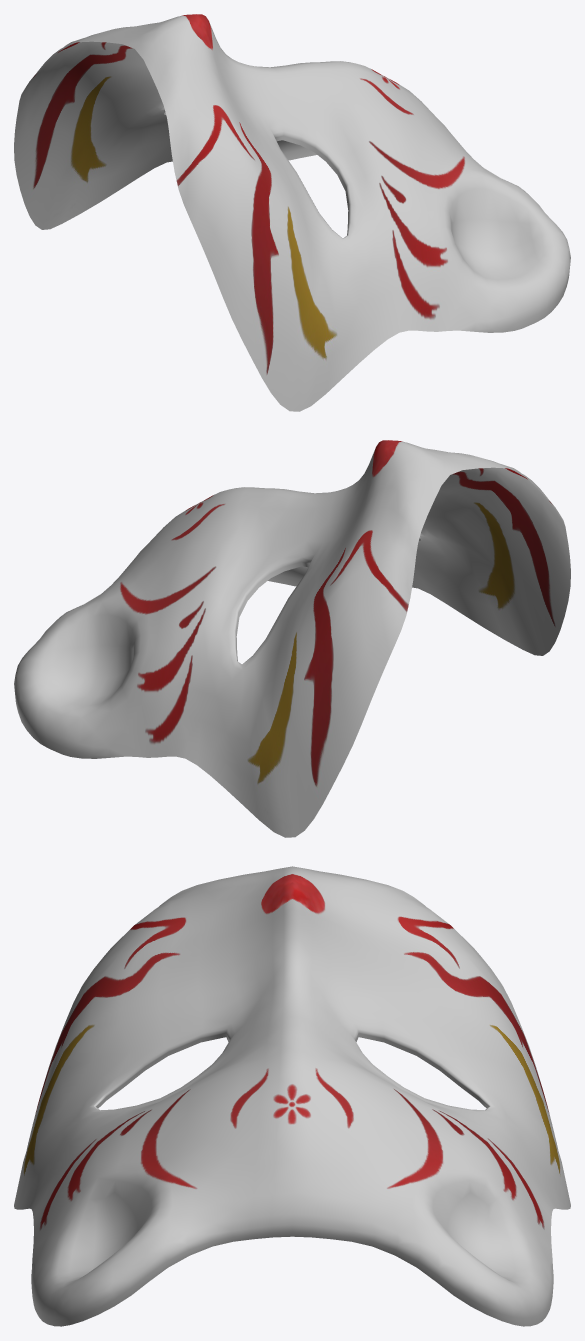
The model's file is FoxCatMask_WorldItem.fbx.
3 renders of one model, top to bottom at view 1: azimuth 30°, elevation 25°; view 2: azimuth 150°, elevation 25°; view 3: azimuth 270°, elevation 25°, orthographic. The views are drawn at different scales.
Visible parts, largest first — view 1: Mask; view 2: Mask; view 3: Mask.
Part boxes in pixels (x1=…): Mask: x1=14, y1=14, x2=570, y2=411; Mask: x1=14, y1=440, x2=570, y2=837; Mask: x1=14, y1=866, x2=570, y2=1326.
Bounding box in the file's own units: 0.1011 × 0.0773 × 0.1157.
